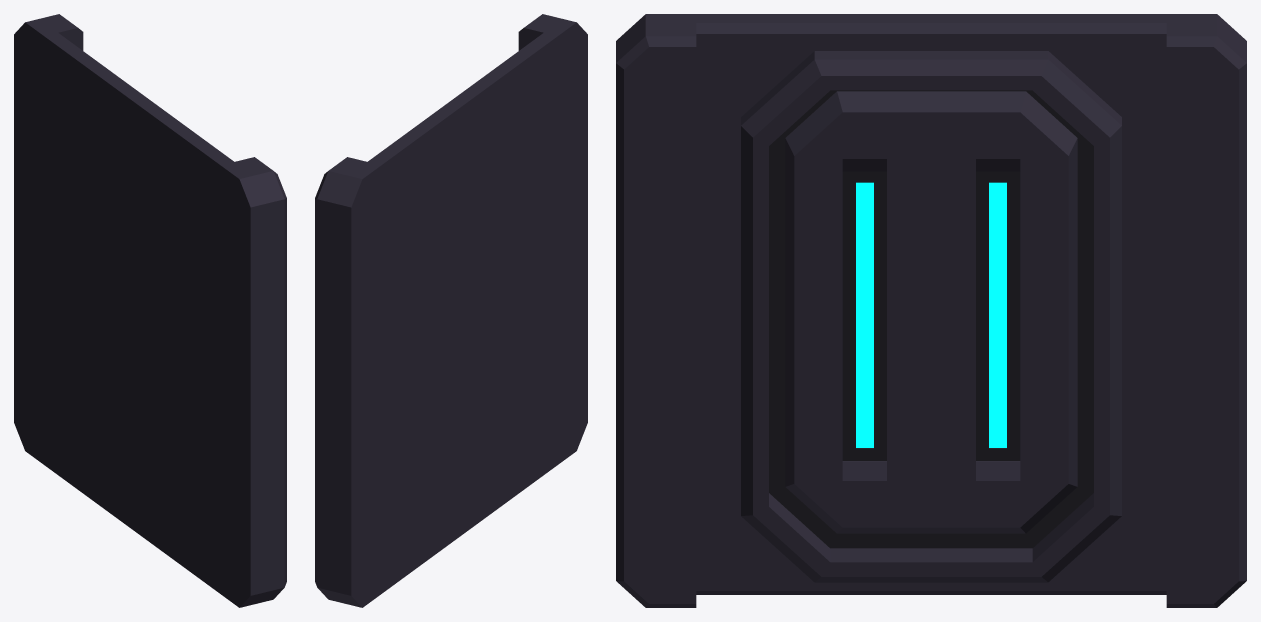
The model's file is SM_Wall_Deco_Panel_01.fbx.
3 views of the same model, side by side, from view 1: azimuth 30°, elevation 25°; view 2: azimuth 150°, elevation 25°; view 3: azimuth 270°, elevation 25° (orthographic). The views are drawn at different scales.
Visible parts, largest first — view 1: SM_Wall_Deco_Panel_01; view 2: SM_Wall_Deco_Panel_01; view 3: SM_Wall_Deco_Panel_01.
Boxes of the visible parts, x1,y1,x2,y2 form: SM_Wall_Deco_Panel_01: (14,14,286,607); SM_Wall_Deco_Panel_01: (315,14,587,607); SM_Wall_Deco_Panel_01: (616,14,1246,607).
Bounding box in the file's own units: 17.93 × 180 × 180.
